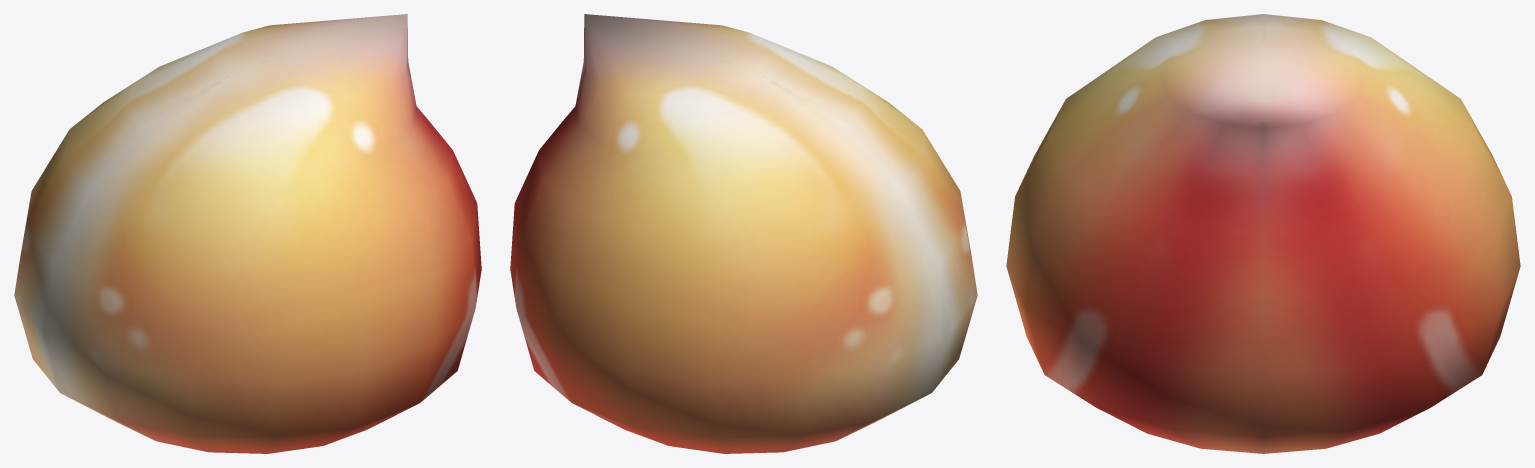
File: scenes_common_tools02.FBX
3 renders of one model, left to right at view 1: azimuth 30°, elevation 25°; view 2: azimuth 150°, elevation 25°; view 3: azimuth 270°, elevation 25°, orthographic. The views are drawn at different scales.
Parts seen in each view (by area): view 1: scenes_common_tools02; view 2: scenes_common_tools02; view 3: scenes_common_tools02.
Boxes of the visible parts, x1=… form: scenes_common_tools02: x1=14, y1=14, x2=481, y2=453; scenes_common_tools02: x1=510, y1=14, x2=977, y2=453; scenes_common_tools02: x1=1006, y1=14, x2=1520, y2=453.
Bounding box in the file's own units: 94.89 × 79.5 × 94.89.
